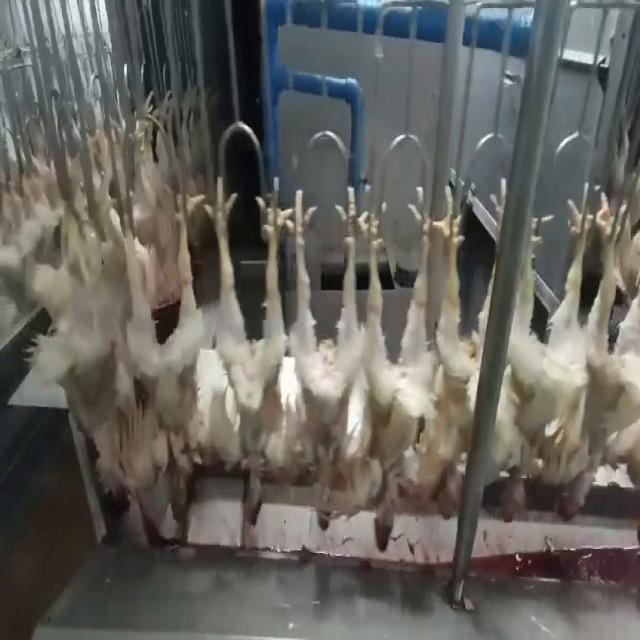chicken: (494, 183, 594, 526), (288, 169, 372, 533), (207, 175, 293, 529), (409, 184, 498, 517), (559, 174, 638, 539), (368, 185, 443, 555), (130, 184, 200, 513)
